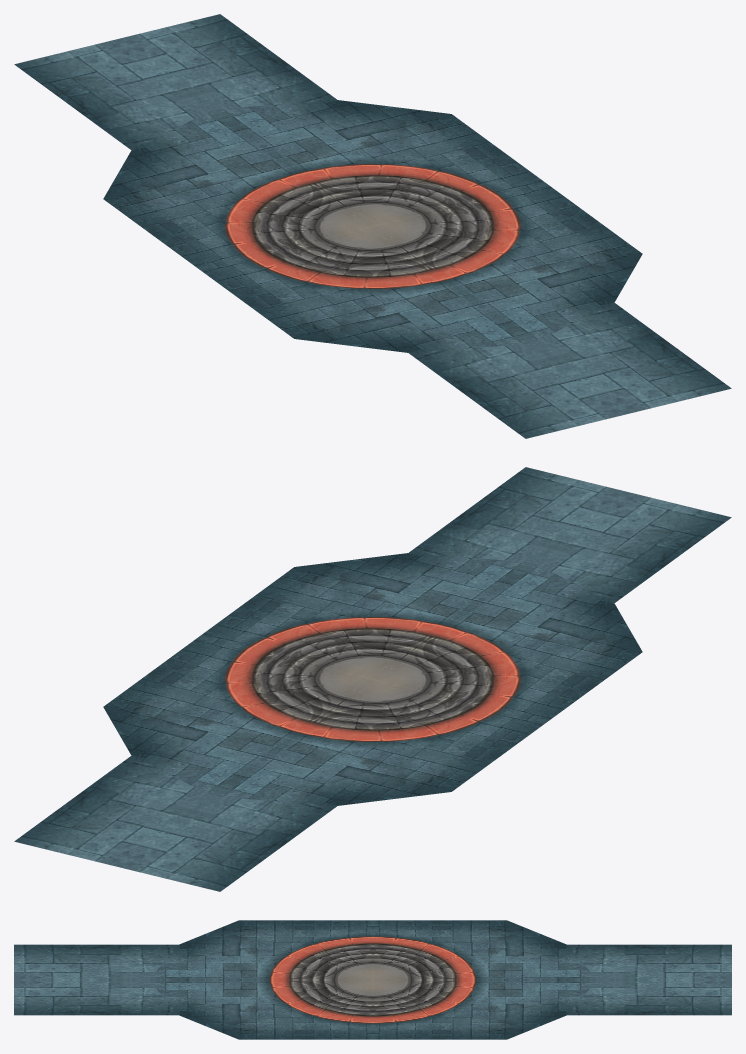
The model's file is MJ_Jsls_01.FBX.
The picture shows the model from 3 angles, top to bottom: view 1: azimuth 30°, elevation 25°; view 2: azimuth 150°, elevation 25°; view 3: azimuth 270°, elevation 25°; orthographic projection. The views are drawn at different scales.
Visible parts, largest first — view 1: NGon01; view 2: NGon01; view 3: NGon01.
Boxes of the visible parts, x1=… form: NGon01: x1=14, y1=14, x2=731, y2=438; NGon01: x1=14, y1=467, x2=731, y2=891; NGon01: x1=14, y1=920, x2=731, y2=1039.
Size of the model in its own units: 17.9 by 0.00121 by 45.52.
